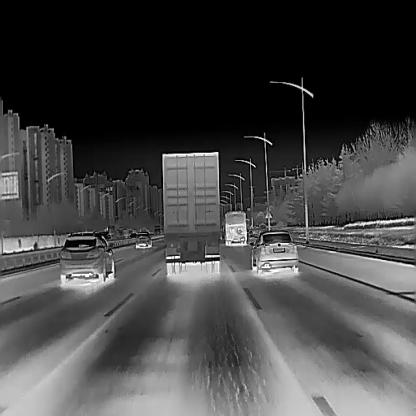bus: (224, 210, 247, 246)
car: (58, 230, 115, 282), (250, 229, 298, 271), (136, 231, 152, 247)
truck: (162, 151, 220, 274), (154, 224, 160, 234)
